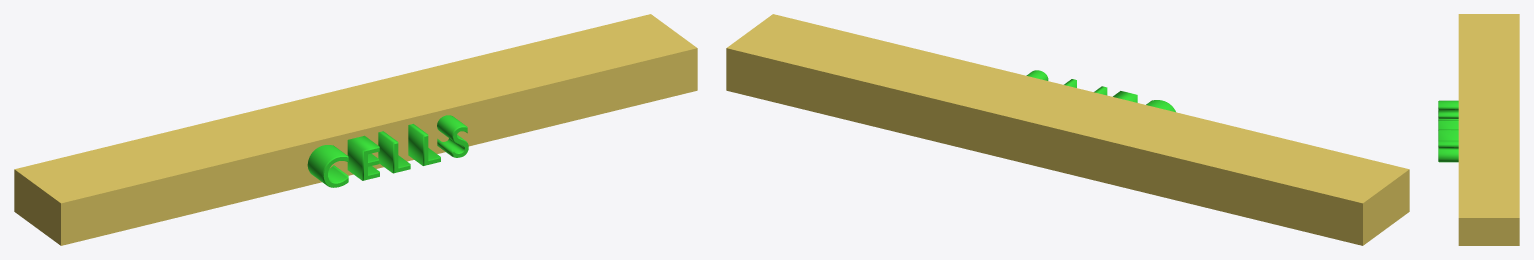
The model's file is cells.gltf.
3 renders of one model, left to right at view 1: azimuth 30°, elevation 25°; view 2: azimuth 150°, elevation 25°; view 3: azimuth 270°, elevation 25°, orthographic. The views are drawn at different scales.
Visible parts, largest first — view 1: Cube, CEELS; view 2: Cube, CEELS; view 3: Cube, CEELS.
Part boxes in pixels (x1,y1,x2,y2): Cube: [14, 14, 697, 245]; CEELS: [307, 115, 468, 187]; Cube: [726, 14, 1409, 245]; CEELS: [1026, 70, 1175, 112]; Cube: [1458, 14, 1519, 245]; CEELS: [1438, 100, 1458, 162].
Bounding box in the file's own units: 4.85 × 0.3096 × 0.8191.
